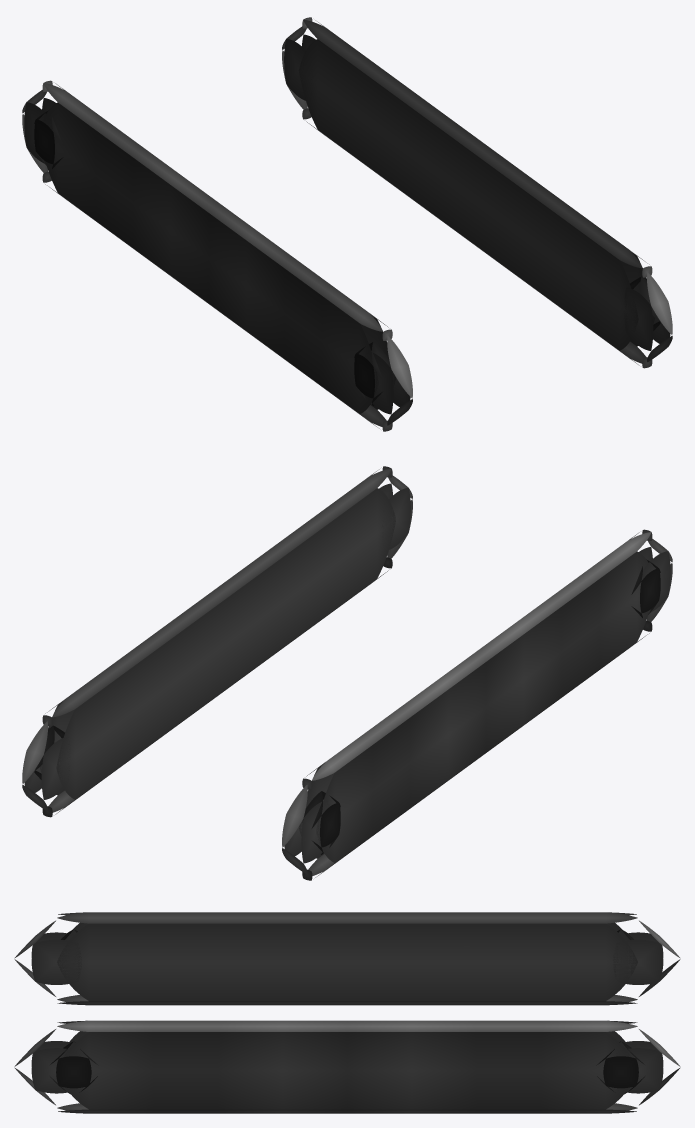
File: udp_9_side_rail_cover.fbx
3 renders of one model, top to bottom at view 1: azimuth 30°, elevation 25°; view 2: azimuth 150°, elevation 25°; view 3: azimuth 270°, elevation 25°, orthographic. The views are drawn at different scales.
Parts seen in each view (by area): view 1: cube, cube_7, cube_8, cube_1, cube_6, cube_13, cube_5, cube_12, cube_10, cube_9, cube_4, cube_11; view 2: cube, cube_7, cube_8, cube_1, cube_5, cube_12, cube_6, cube_13, cube_9, cube_10, cube_4, cube_11; view 3: cube_7, cube, cube_1, cube_8, cube_4, cube_11, cube_13, cube_12, cube_5, cube_6, cube_2, cube_3.
Boxes of the visible parts, bbox=[...] form: cube: bbox=[298, 39, 654, 350]; cube_7: bbox=[42, 102, 395, 413]; cube_8: bbox=[42, 80, 392, 340]; cube_1: bbox=[302, 17, 652, 277]; cube_6: bbox=[624, 272, 672, 362]; cube_13: bbox=[365, 336, 412, 425]; cube_5: bbox=[282, 26, 315, 109]; cube_12: bbox=[22, 90, 55, 172]; cube_10: bbox=[354, 342, 392, 405]; cube_9: bbox=[34, 110, 63, 168]; cube_4: bbox=[302, 108, 652, 368]; cube_11: bbox=[42, 171, 392, 431]; cube: bbox=[40, 488, 395, 799]; cube_7: bbox=[299, 551, 650, 862]; cube_8: bbox=[302, 529, 652, 789]; cube_1: bbox=[42, 466, 392, 726]; cube_5: bbox=[22, 721, 70, 811]; cube_12: bbox=[282, 785, 329, 874]; cube_6: bbox=[379, 475, 412, 558]; cube_13: bbox=[639, 539, 672, 621]; cube_9: bbox=[302, 791, 340, 854]; cube_10: bbox=[631, 559, 660, 617]; cube_4: bbox=[42, 557, 392, 817]; cube_11: bbox=[302, 620, 652, 880]; cube_7: bbox=[57, 922, 637, 1000]; cube: bbox=[64, 1031, 630, 1109]; cube_1: bbox=[57, 1020, 637, 1031]; cube_8: bbox=[57, 912, 637, 923]; cube_4: bbox=[57, 1103, 637, 1113]; cube_11: bbox=[57, 995, 637, 1005]; cube_13: bbox=[14, 920, 81, 996]; cube_12: bbox=[613, 920, 680, 996]; cube_5: bbox=[616, 1029, 680, 1105]; cube_6: bbox=[14, 1029, 79, 1105]; cube_2: bbox=[596, 1041, 644, 1094]; cube_3: bbox=[50, 1041, 98, 1094].
Bounding box in the file's own units: 12.89 × 4.69 × 30.47.
Materials: 1 (1 with a texture image).
